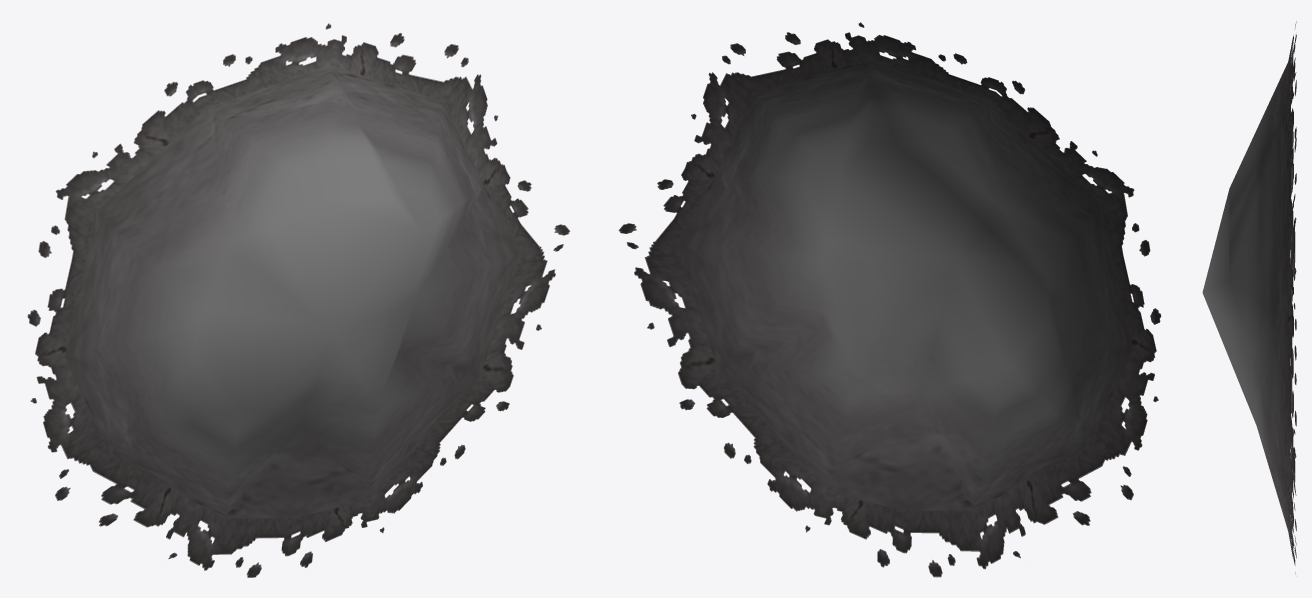
The model's file is ash_pile.glb.
The picture shows the model from 3 angles, left to right: view 1: azimuth 30°, elevation 25°; view 2: azimuth 150°, elevation 25°; view 3: azimuth 270°, elevation 25°; orthographic projection. The views are drawn at different scales.
Parts seen in each view (by area): view 1: dust_ash.ash_pile-Mesh[0]; view 2: dust_ash.ash_pile-Mesh[0]; view 3: dust_ash.ash_pile-Mesh[0].
Boxes of the visible parts, x1,y1,x2,y2 form: dust_ash.ash_pile-Mesh[0]: (27, 23, 570, 577); dust_ash.ash_pile-Mesh[0]: (618, 22, 1161, 577); dust_ash.ash_pile-Mesh[0]: (1202, 22, 1296, 574).
Size of the model in its own units: 3.06 by 2.87 by 0.4842.
1 material, 1 textured.
